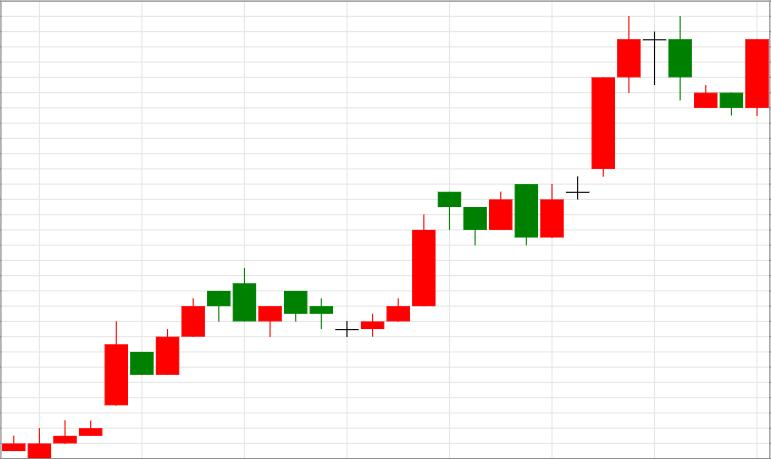evening_star_fall: (540, 15, 692, 238)
